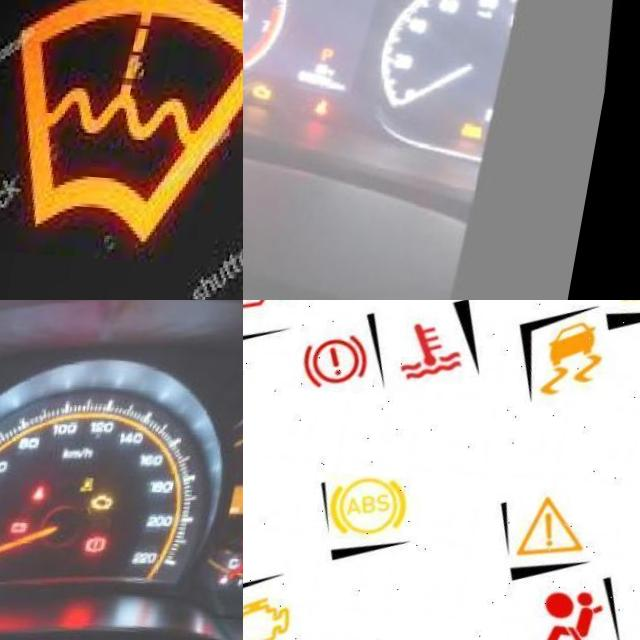Seat Belt: (47, 487, 60, 504)
Washer Fluid: (1, 0, 243, 245)
